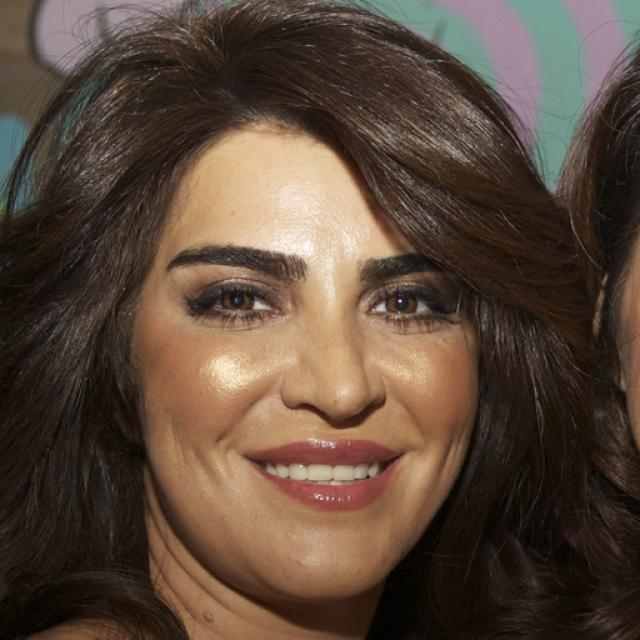happy: (126, 107, 489, 604)
